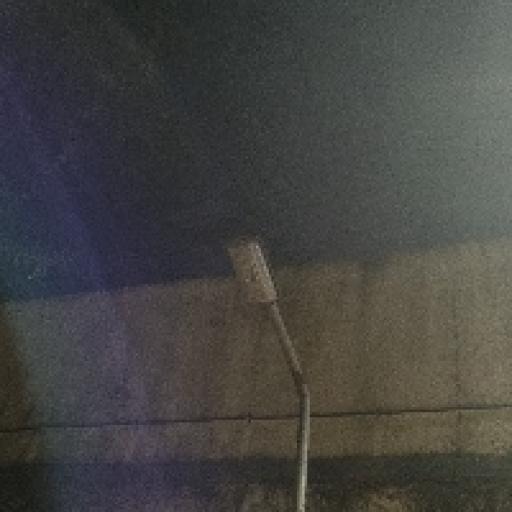Not Working: (202, 222, 299, 323)
